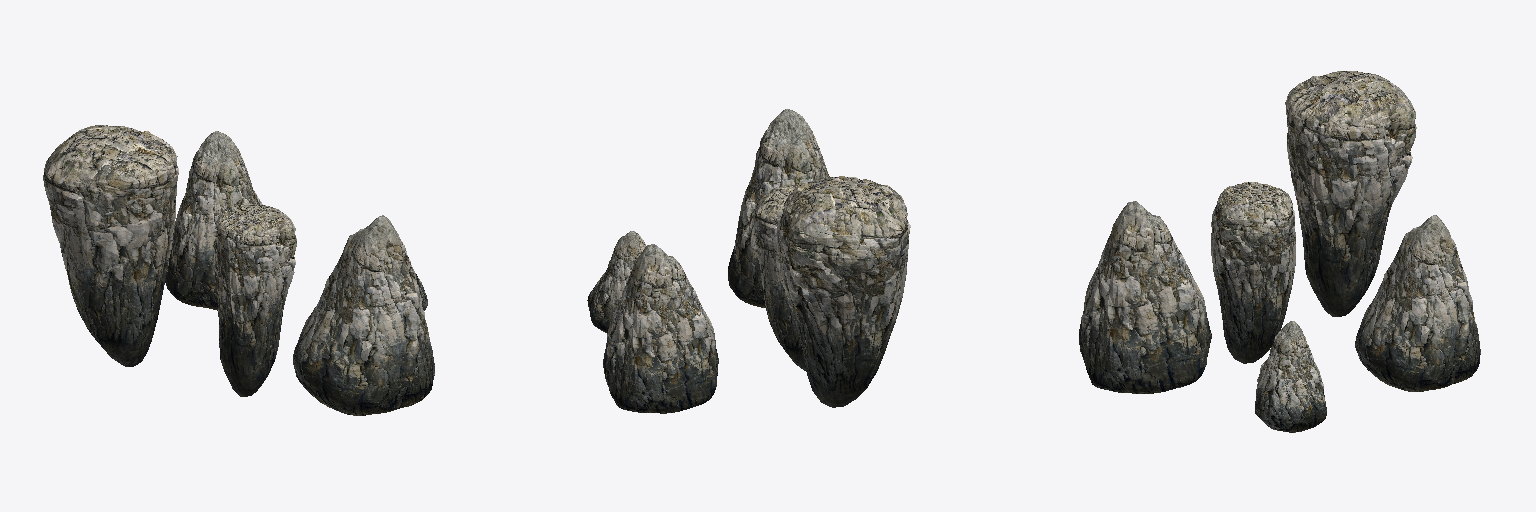
The picture shows the model from 3 angles: view 1: azimuth 30°, elevation 25°; view 2: azimuth 150°, elevation 25°; view 3: azimuth 270°, elevation 25°; orthographic projection.
Parts seen in each view (by area): view 1: rock_05, rock_01, rock_02, rock_03; view 2: rock_05, rock_03, rock_01, rock_02, rock_04; view 3: rock_05, rock_01, rock_03, rock_02, rock_04.
Boxes of the visible parts, x1,y1,x2,y2 form: rock_05: [43, 125, 178, 366]; rock_01: [293, 215, 434, 415]; rock_02: [214, 204, 296, 396]; rock_03: [165, 131, 262, 310]; rock_05: [777, 176, 910, 407]; rock_03: [603, 244, 718, 413]; rock_01: [728, 109, 829, 307]; rock_02: [753, 184, 806, 371]; rock_04: [587, 231, 645, 333]; rock_05: [1285, 71, 1416, 316]; rock_01: [1079, 201, 1211, 393]; rock_03: [1355, 215, 1480, 391]; rock_02: [1211, 182, 1295, 363]; rock_04: [1255, 321, 1326, 432].
Size of the model in its own units: 5.25 by 3.55 by 5.36.
Materials: 1 (1 with a texture image).